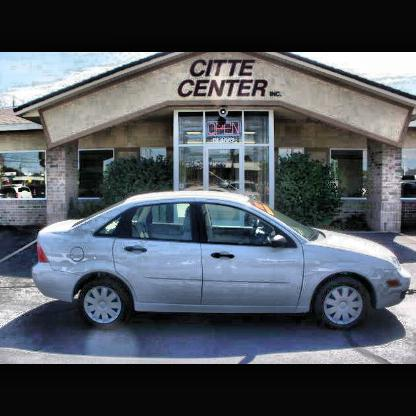Ford Focus Sedan 2007: (32, 192, 412, 333)
